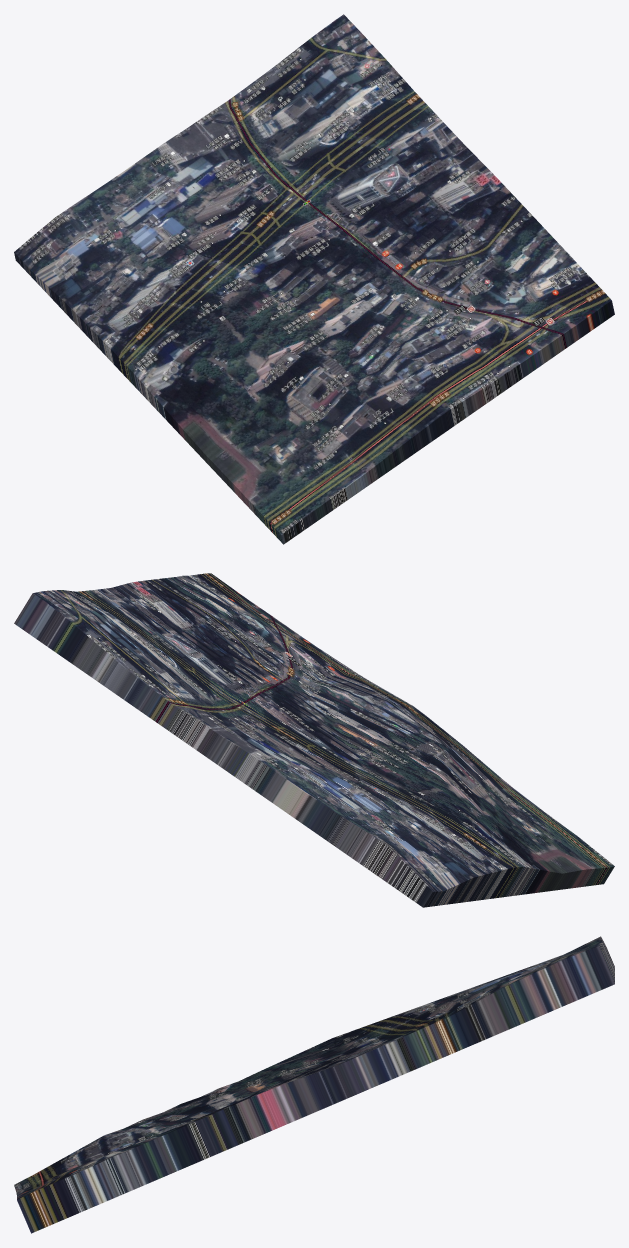
The picture shows the model from 3 angles, top to bottom: view 1: azimuth 30°, elevation 25°; view 2: azimuth 150°, elevation 25°; view 3: azimuth 270°, elevation 25°; orthographic projection. The views are drawn at different scales.
Parts seen in each view (by area): view 1: 0_8_17; view 2: 0_8_17; view 3: 0_8_17.
Part boxes in pixels (x1,y1,x2,y2): 0_8_17: [14, 14, 614, 544]; 0_8_17: [14, 573, 614, 907]; 0_8_17: [14, 936, 614, 1233].
Size of the model in its own units: 599 by 461 by 558.
1 material, 1 textured.
